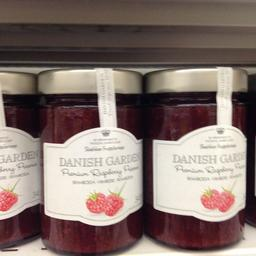jam: (38, 66, 145, 255), (144, 65, 248, 250), (0, 68, 41, 250)
